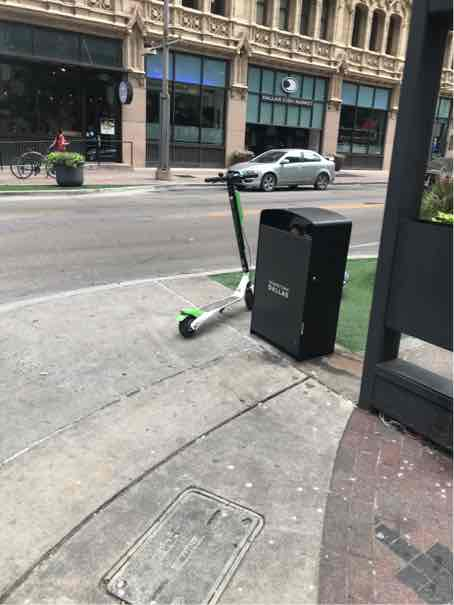scooter: (165, 165, 265, 324)
